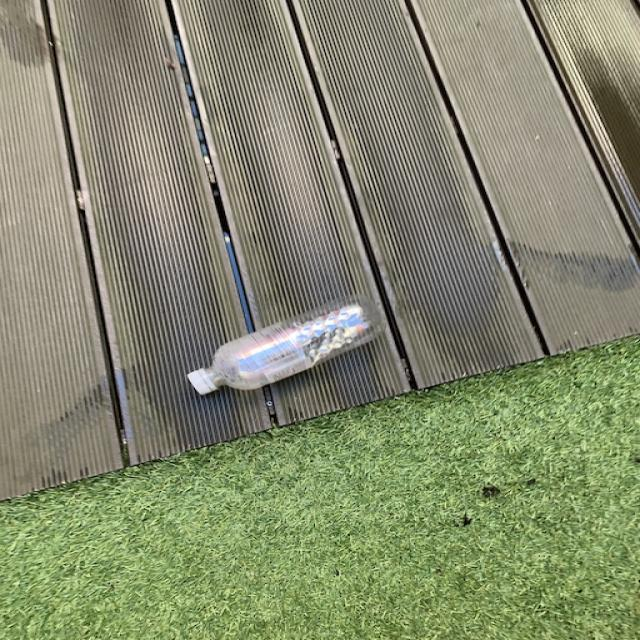Waste: (188, 296, 381, 395)
